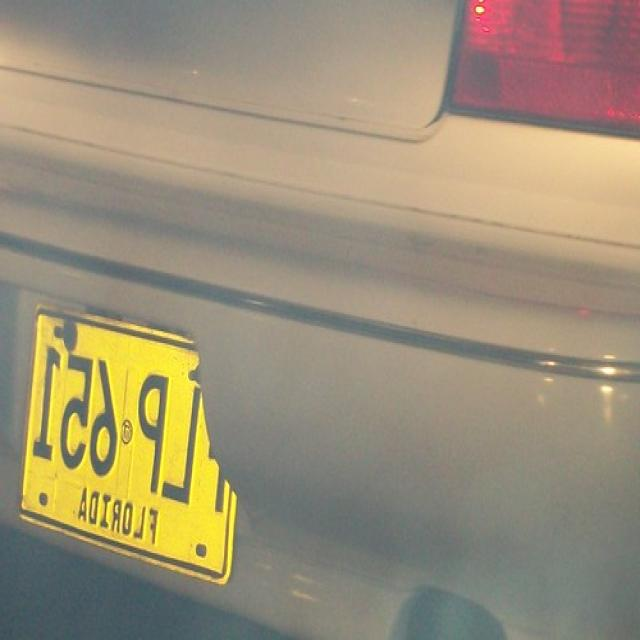placas: (26, 329, 233, 529)
